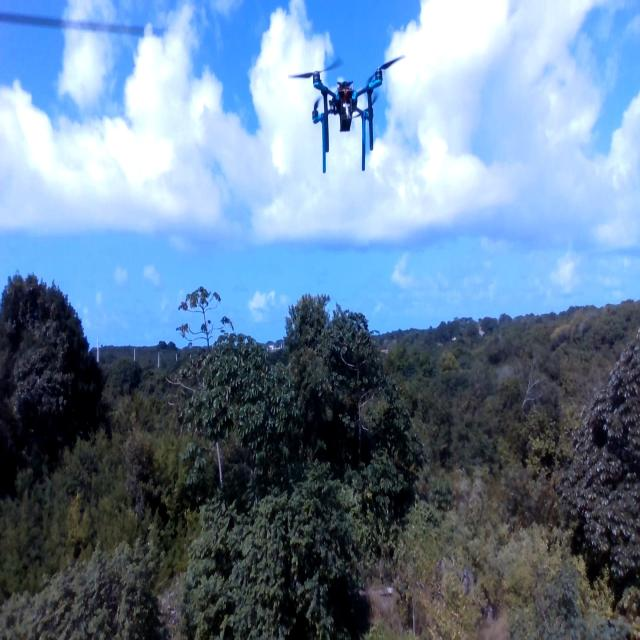-uav-: (280, 41, 412, 196)
